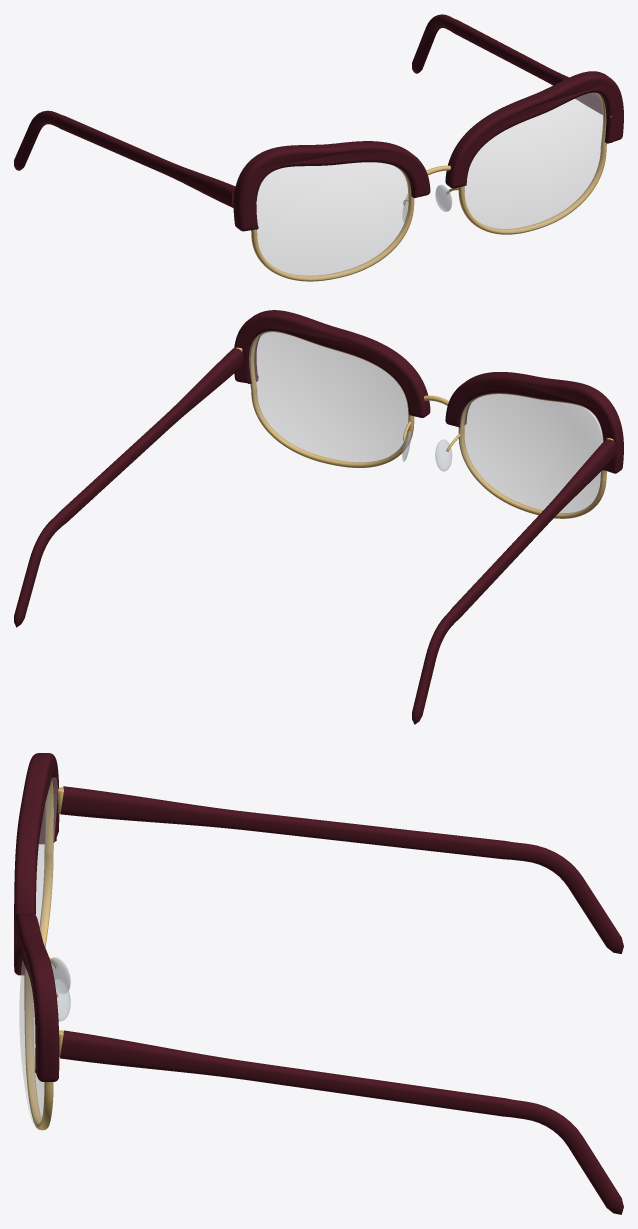
The model's file is mae-l.glb.
3 views of the same model, one above another, from view 1: azimuth 30°, elevation 25°; view 2: azimuth 150°, elevation 25°; view 3: azimuth 270°, elevation 25° (orthographic). The views are drawn at different scales.
Parts seen in each view (by area): view 1: Lens_R, Front, Lens_L, Temple_R, Temple_L, NosePads; view 2: Lens_L, Front, Lens_R, Temple_L, Temple_R, NosePads; view 3: Temple_L, Temple_R, Front, Lens_L, Lens_R, NosePads.
Boxes of the visible parts, x1,y1,x2,y2 form: Lens_R: [257, 162, 409, 279]; Front: [233, 71, 623, 281]; Lens_L: [465, 93, 603, 232]; Temple_R: [14, 110, 235, 207]; Temple_L: [412, 14, 602, 114]; NosePads: [402, 184, 452, 222]; Lens_L: [249, 331, 408, 462]; Front: [234, 310, 623, 518]; Lens_R: [460, 394, 603, 513]; Temple_L: [14, 348, 243, 627]; Temple_R: [412, 439, 616, 724]; NosePads: [402, 431, 452, 471]; Temple_L: [60, 1030, 623, 1214]; Temple_R: [60, 786, 623, 953]; Front: [14, 753, 63, 1130]; Lens_L: [19, 960, 43, 1125]; Lens_R: [36, 778, 57, 938]; NosePads: [50, 957, 70, 1021].
Size of the model in its own units: 0.1465 by 0.058 by 0.1419.
